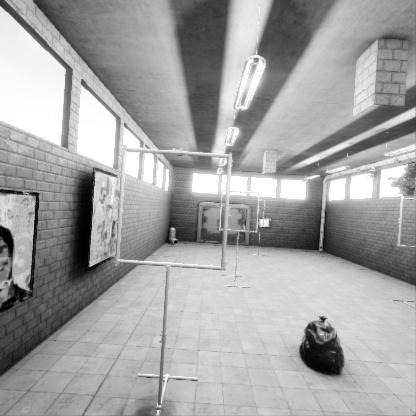gate: (121, 153, 238, 270), (220, 185, 262, 227), (401, 168, 416, 220), (257, 191, 265, 217)
